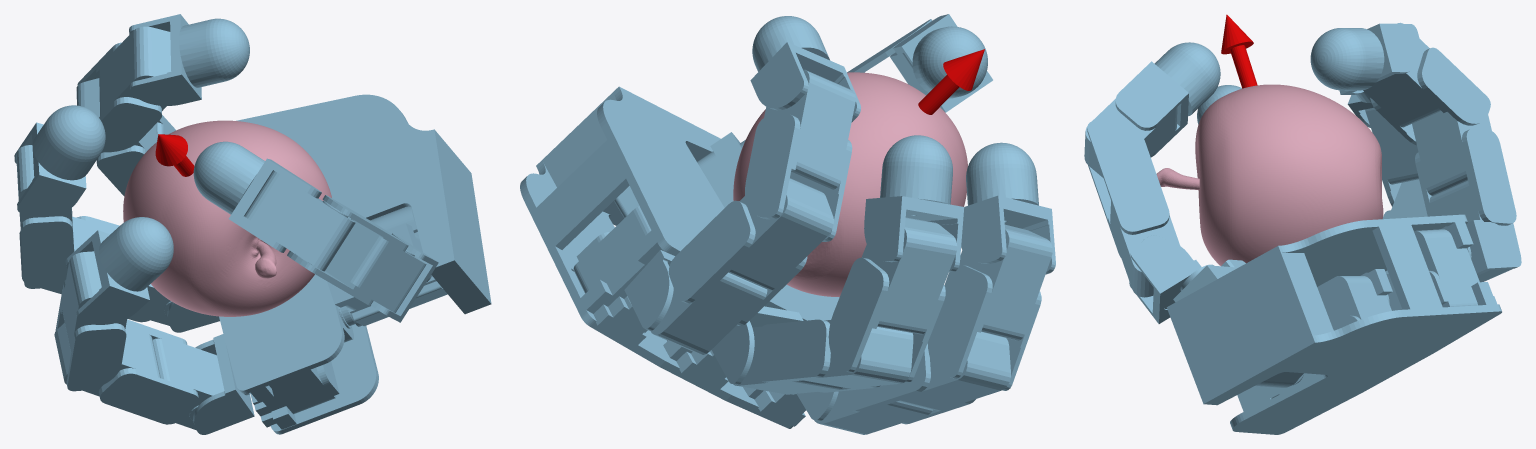
The picture shows the model from 3 angles, left to right: view 1: azimuth 30°, elevation 25°; view 2: azimuth 150°, elevation 25°; view 3: azimuth 270°, elevation 25°; orthographic projection. The views are drawn at different scales.
Visible parts, largest first — view 1: world, apple.stl; view 2: world, apple.stl; view 3: world, apple.stl.
Part boxes in pixels (bbox=[...]): world: bbox=[14, 14, 491, 434]; apple.stl: bbox=[123, 120, 331, 316]; world: bbox=[520, 14, 1055, 434]; apple.stl: bbox=[733, 72, 967, 297]; world: bbox=[1084, 14, 1521, 434]; apple.stl: bbox=[1156, 84, 1383, 265].
Size of the model in its own units: 0.187 by 0.1648 by 0.1673.
